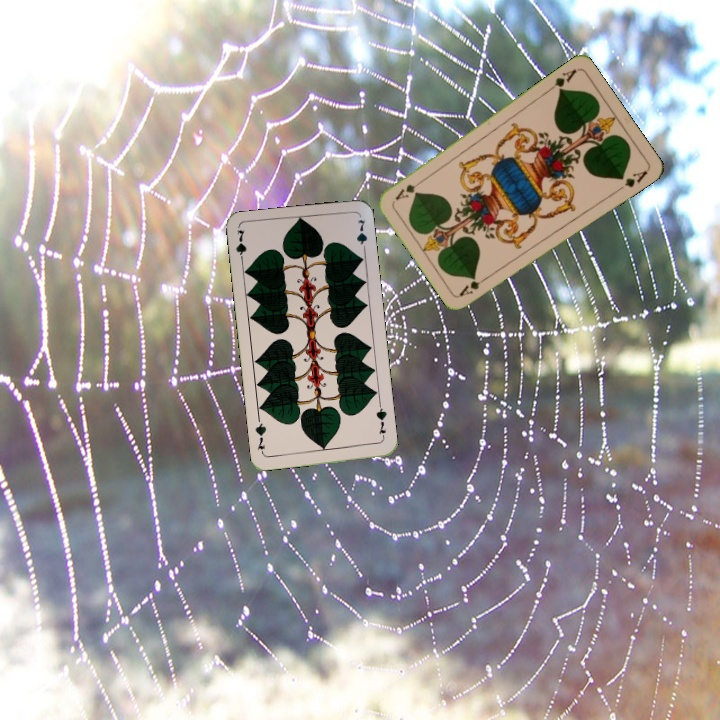G7: (372, 401, 389, 442), (232, 226, 249, 267)
GA: (544, 65, 579, 95), (455, 271, 492, 298)
